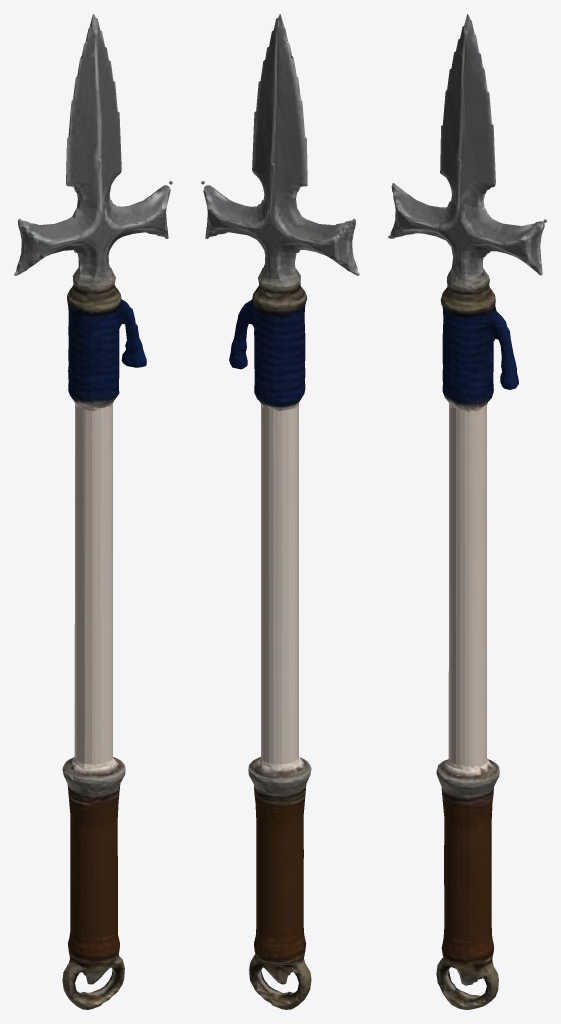
File: spear.glb
3 renders of one model, left to right at view 1: azimuth 30°, elevation 25°; view 2: azimuth 150°, elevation 25°; view 3: azimuth 330°, elevation 25°, orthographic.
Visible parts, largest first — view 1: spear; view 2: spear; view 3: spear.
Boxes of the visible parts, left/top/right/bottom form: spear: left=14, top=14, right=172, bottom=1009; spear: left=201, top=14, right=359, bottom=1009; spear: left=388, top=14, right=546, bottom=1009.
Bounding box in the file's own units: 0.2274 × 1.37 × 0.0796.
Materials: 1 (1 with a texture image).
